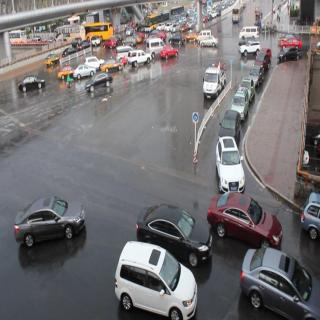Car: (132, 183, 217, 266), (113, 230, 191, 319), (202, 170, 278, 256), (12, 192, 94, 260), (214, 132, 250, 196), (83, 69, 118, 106), (203, 63, 230, 97), (22, 76, 50, 99), (129, 46, 149, 78), (76, 56, 91, 78), (162, 45, 180, 63)
